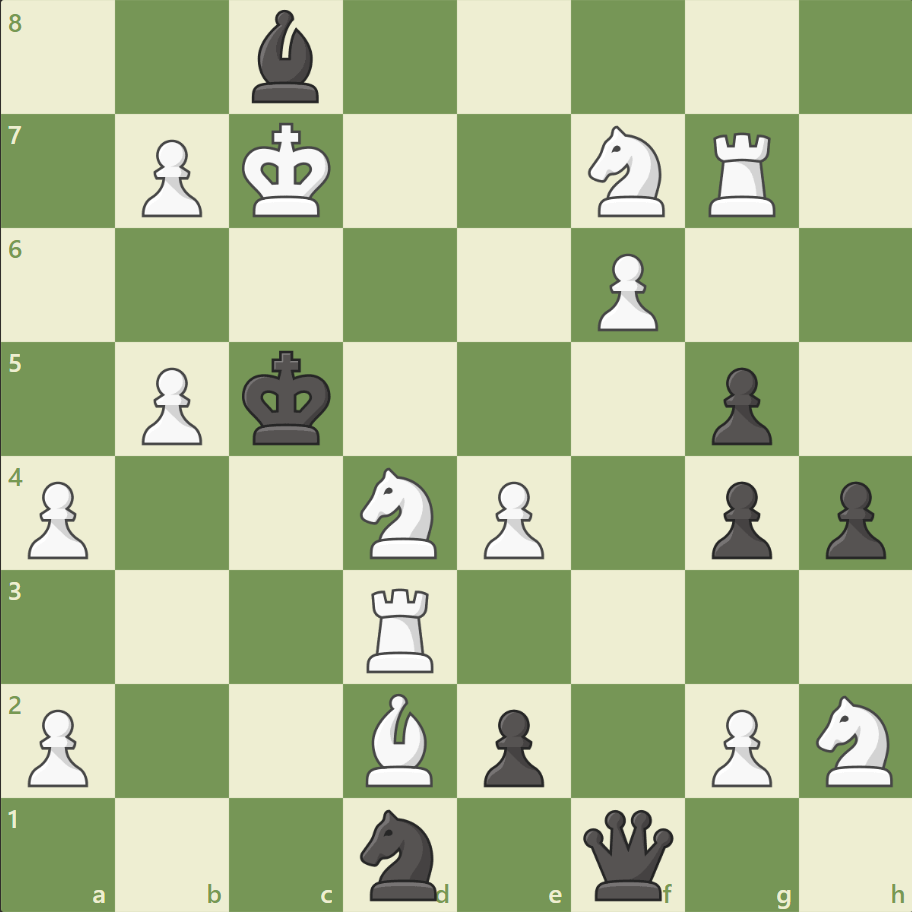B: (358, 687, 442, 790)
K: (238, 117, 338, 225)
N: (351, 461, 449, 564), (806, 688, 903, 791), (579, 121, 676, 223)
P: (133, 132, 208, 223), (133, 359, 208, 450), (20, 473, 95, 564), (474, 473, 549, 564), (20, 700, 95, 791), (701, 700, 776, 791), (588, 246, 662, 337)
R: (700, 125, 783, 222), (360, 579, 442, 676)
b: (244, 6, 328, 109)
k: (238, 344, 338, 452)
n: (351, 802, 449, 904)
p: (701, 359, 776, 450), (701, 473, 776, 564), (474, 700, 549, 791), (815, 473, 889, 564)
q: (578, 804, 677, 903)
